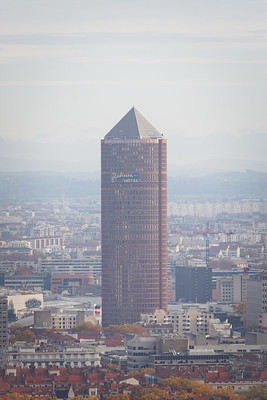low: (97, 104, 171, 342)
